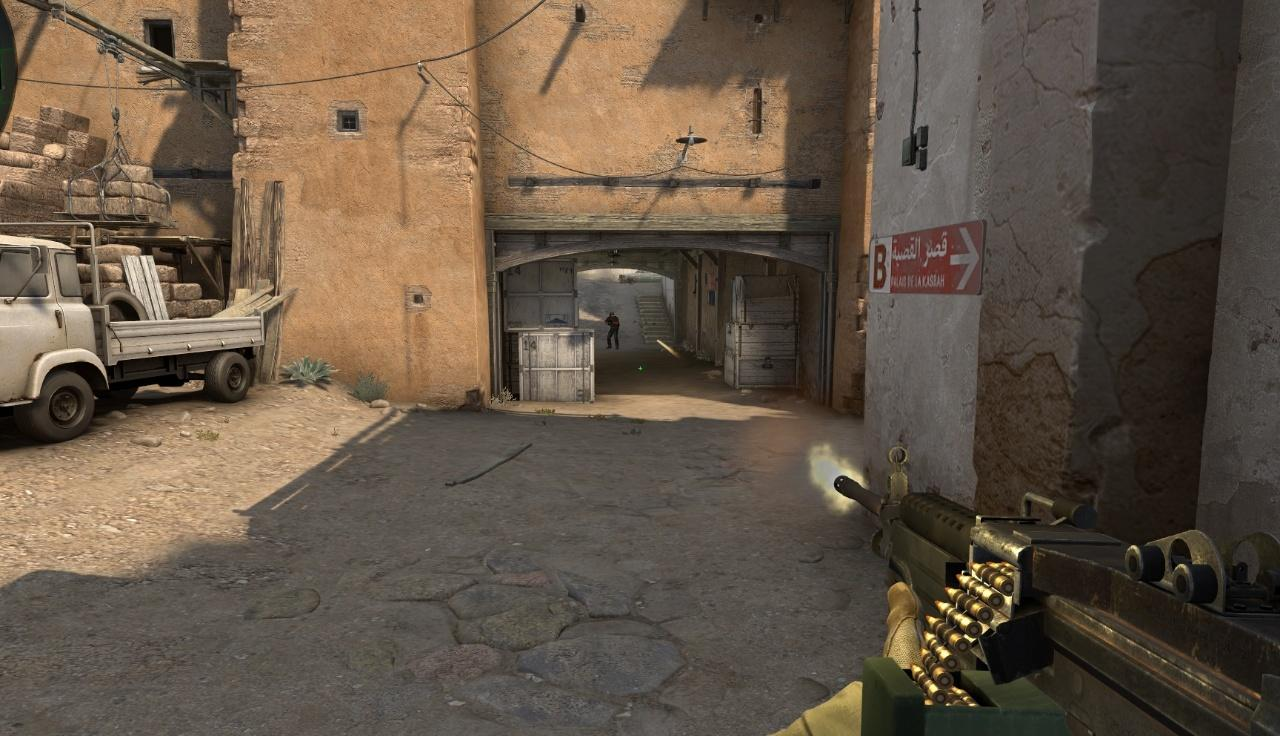rifle: (833, 445, 1280, 734)
tt: (606, 312, 619, 349)
tthead: (609, 312, 614, 318)
